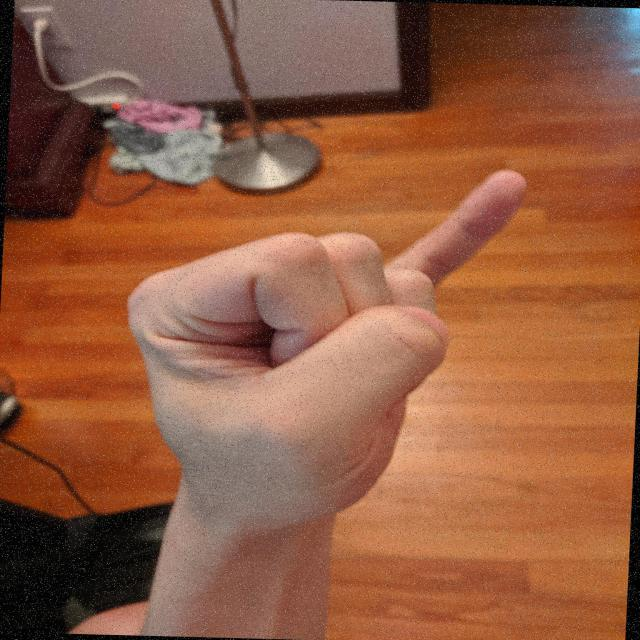I: (108, 154, 538, 534)
